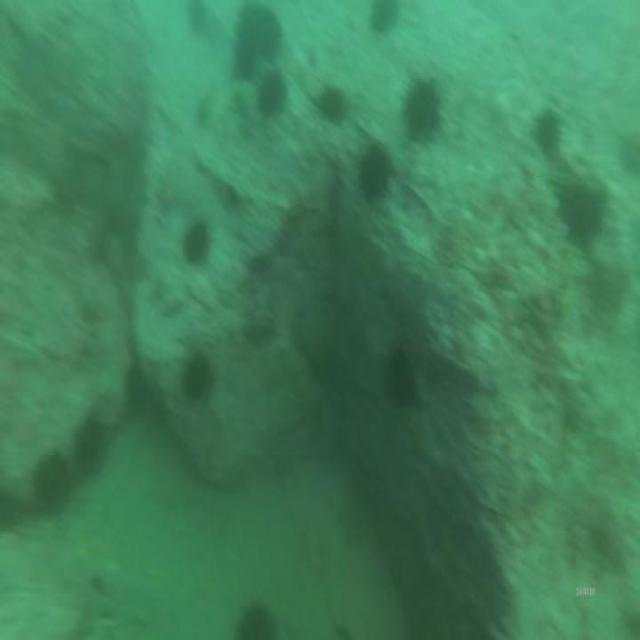echinus: (231, 10, 280, 71), (561, 178, 604, 238), (383, 349, 416, 411), (404, 85, 438, 141), (34, 454, 66, 512), (76, 422, 104, 476), (362, 142, 387, 199), (534, 111, 558, 166), (256, 74, 282, 119), (124, 365, 146, 416), (180, 358, 209, 396), (316, 88, 344, 126), (184, 220, 206, 264), (372, 0, 394, 32), (188, 3, 205, 30)
